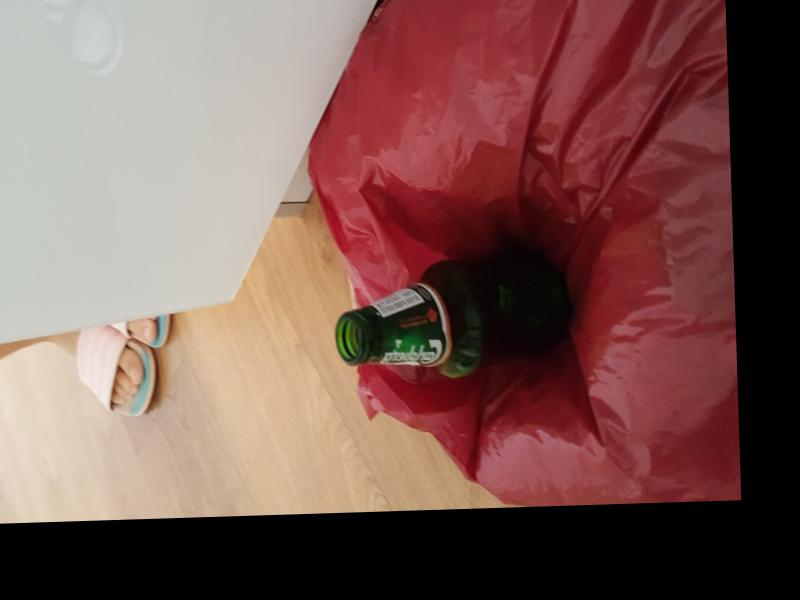Beer: (334, 246, 573, 380)
